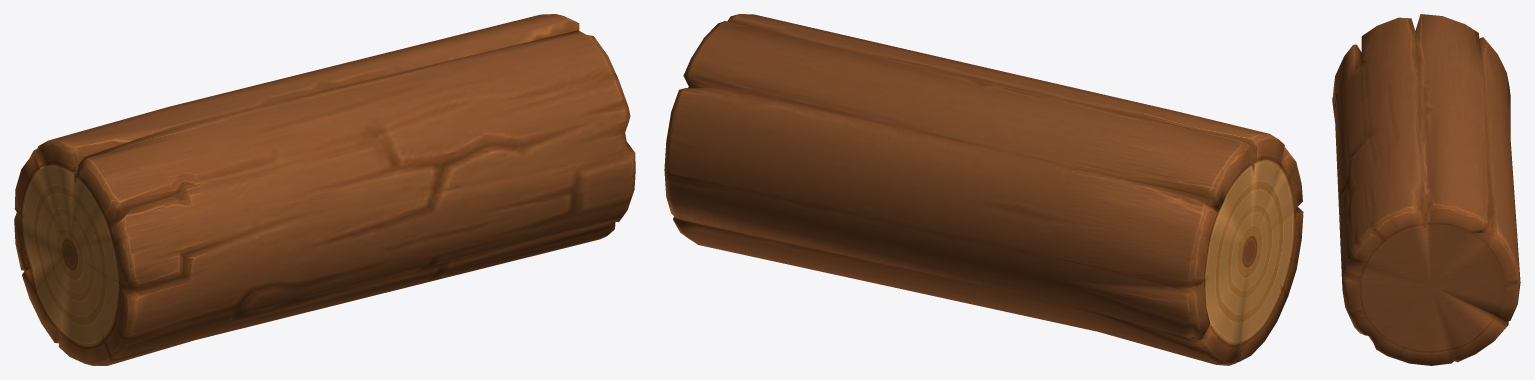
File: Tronco_1.glb
3 views of the same model, side by side, from view 1: azimuth 30°, elevation 25°; view 2: azimuth 150°, elevation 25°; view 3: azimuth 270°, elevation 25° (orthographic). The views are drawn at different scales.
Parts seen in each view (by area): view 1: tripo_node_f784fb17-c6f1-4eaf-a89e-bc2c723ba631; view 2: tripo_node_f784fb17-c6f1-4eaf-a89e-bc2c723ba631; view 3: tripo_node_f784fb17-c6f1-4eaf-a89e-bc2c723ba631.
Part boxes in pixels (bbox=[...]): tripo_node_f784fb17-c6f1-4eaf-a89e-bc2c723ba631: bbox=[14, 14, 635, 365]; tripo_node_f784fb17-c6f1-4eaf-a89e-bc2c723ba631: bbox=[664, 14, 1303, 365]; tripo_node_f784fb17-c6f1-4eaf-a89e-bc2c723ba631: bbox=[1332, 14, 1520, 365].
Size of the model in its own units: 0.998 by 0.3887 by 0.4043.
Materials: 1 (1 with a texture image).
